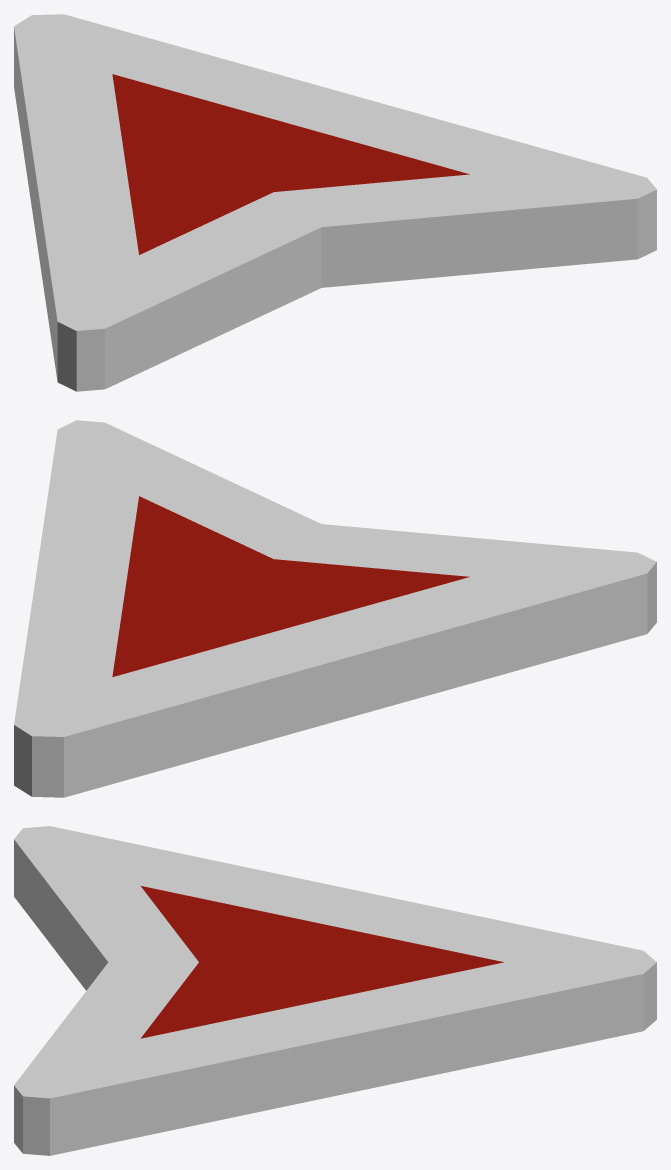
The model's file is SM_Tail_02.fbx.
3 renders of one model, top to bottom at view 1: azimuth 30°, elevation 25°; view 2: azimuth 150°, elevation 25°; view 3: azimuth 270°, elevation 25°, orthographic. The views are drawn at different scales.
Visible parts, largest first — view 1: SM_Tail_02; view 2: SM_Tail_02; view 3: SM_Tail_02.
Boxes of the visible parts, bbox=[...] form: SM_Tail_02: bbox=[14, 14, 656, 391]; SM_Tail_02: bbox=[14, 420, 656, 797]; SM_Tail_02: bbox=[14, 826, 656, 1155].
Size of the model in its own units: 8.56 by 0.8417 by 8.54.
